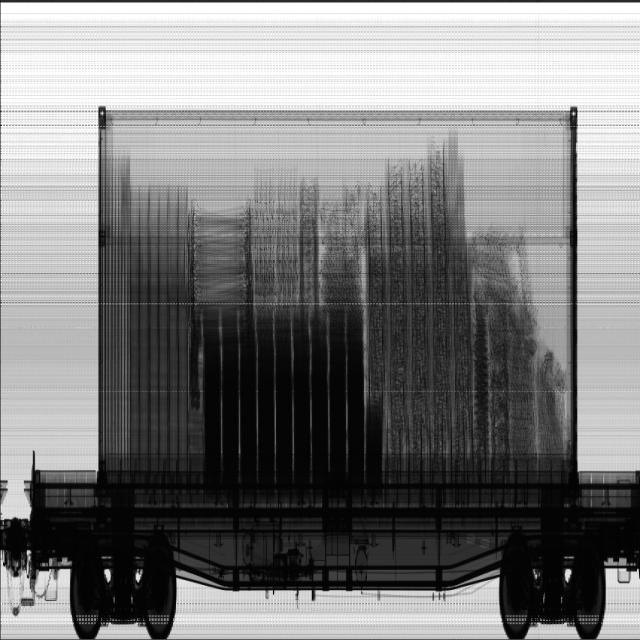auto parts: (189, 197, 256, 318)
bags: (365, 138, 475, 487)
